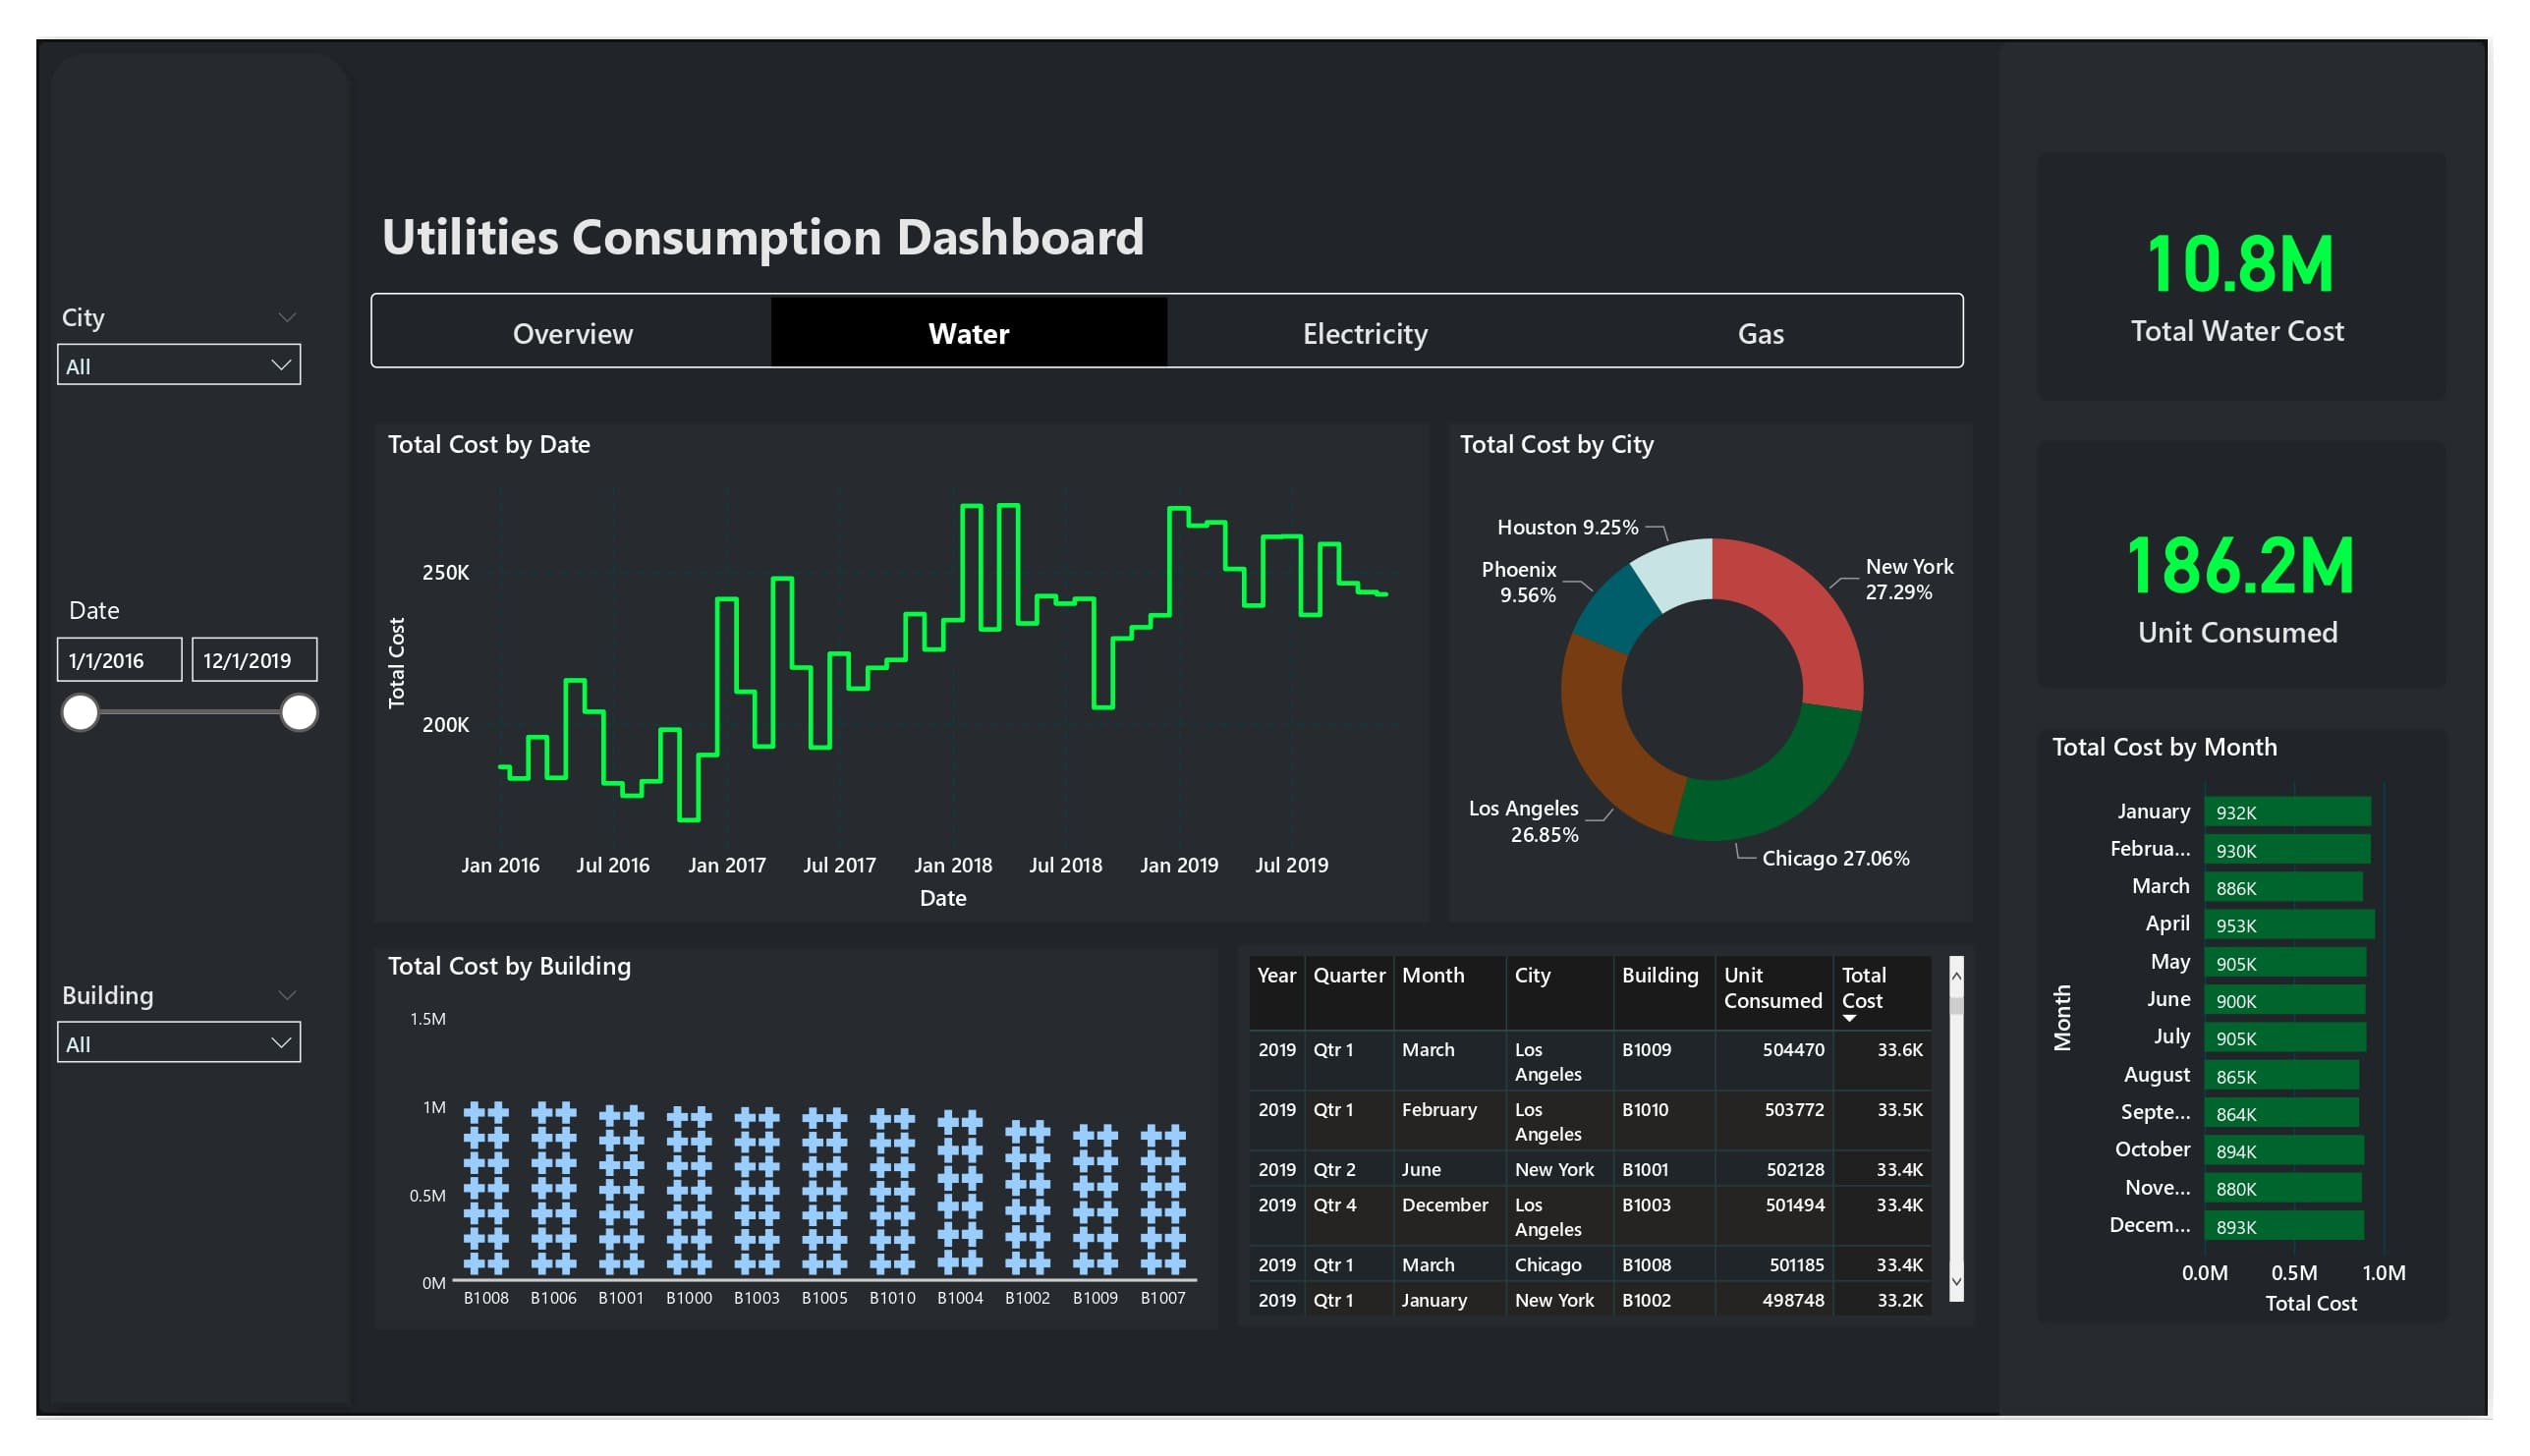

This screenshot's page, from the dashboard's own definition file:
{"tool":"powerbi","page":{"name":"Water","canvas":[1600,900],"ordinal":1},"visuals":[{"type":"textbox","box":[219.2,101.9,776.9,65.4],"z":0},{"type":"pageNavigator","box":[218.2,166.4,1038.2,49.1],"z":1000},{"type":"card","fields":{"Values":["Measures_Table.Total Cost"]},"box":[1306.6,81.7,255.4,145.9],"z":2000},{"type":"card","fields":{"Values":["Measures_Table.Unit Consumed"]},"box":[1306.7,282.2,255.6,135.6],"z":4000},{"type":"slicer","fields":{"Values":["Building Master.City"]},"box":[3.5,166.8,179,73],"z":5000},{"type":"slicer","fields":{"Values":["Energy Consumptions.Building"]},"box":[3.5,608.1,179,73],"z":6000},{"type":"slicer","fields":{"Values":["Energy Consumptions.Date"]},"box":[0,380.5,192.3,86.5],"z":7000},{"type":"textbox","box":[15.6,357.9,152.9,33],"z":8000},{"type":"lineChart","fields":{"Category":["Energy Consumptions.Date"],"Y":["Measures_Table.Total Cost"]},"box":[223.1,254.4,684.1,320.9],"z":9000},{"type":"donutChart","fields":{"Category":["Building Master.City"],"Y":["Measures_Table.Total Cost"]},"box":[922,253.8,338.5,321.4],"z":10000},{"type":"PBI_CV_73744D90_4DC9_4F18_8BA5_EE8FA5C98035","fields":{"Values":["Measures_Table.Total Cost"],"Category":["Energy Consumptions.Building"]},"box":[223.1,592.9,545.1,244.5],"z":11000},{"type":"tableEx","fields":{"Values":["Energy Consumptions.Date.Variation.Date Hierarchy.Year","Energy Consumptions.Date.Variation.Date Hierarchy.Quarter","Energy Consumptions.Date.Variation.Date Hierarchy.Month","Building Master.City","Building Master.Building","Measures_Table.Unit Consumed","Measures_Table.Total Cost"]},"box":[784.1,592.9,476.4,244],"z":12000},{"type":"clusteredBarChart","fields":{"Y":["Measures_Table.Total Cost"],"Category":["Energy Consumptions.Date.Variation.Date Hierarchy.Month"]},"box":[1307.2,450.6,263.9,386.7],"z":13000}]}

Visuals, with their boxes on the page's 1600x900 design canvas (x1, y1, x2, y2). These are canvas units, not pixel positions in the 2530x1456 screenshot, which may show the page scaled, cropped or inside an application window:
textbox: [x1=219, y1=102, x2=996, y2=167]
pageNavigator: [x1=218, y1=166, x2=1256, y2=216]
card - Measures_Table.Total Cost: [x1=1307, y1=82, x2=1562, y2=228]
card - Measures_Table.Unit Consumed: [x1=1307, y1=282, x2=1562, y2=418]
slicer - Building Master.City: [x1=4, y1=167, x2=182, y2=240]
slicer - Energy Consumptions.Building: [x1=4, y1=608, x2=182, y2=681]
slicer - Energy Consumptions.Date: [x1=0, y1=380, x2=192, y2=467]
textbox: [x1=16, y1=358, x2=168, y2=391]
lineChart - Energy Consumptions.Date x Measures_Table.Total Cost: [x1=223, y1=254, x2=907, y2=575]
donutChart - Building Master.City x Measures_Table.Total Cost: [x1=922, y1=254, x2=1260, y2=575]
PBI_CV_73744D90_4DC9_4F18_8BA5_EE8FA5C98035 - Measures_Table.Total Cost x Energy Consumptions.Building: [x1=223, y1=593, x2=768, y2=837]
tableEx - Energy Consumptions.Date.Variation.Date Hierarchy.Year x Energy Consumptions.Date.Variation.Date Hierarchy.Quarter: [x1=784, y1=593, x2=1260, y2=837]
clusteredBarChart - Measures_Table.Total Cost x Energy Consumptions.Date.Variation.Date Hierarchy.Month: [x1=1307, y1=451, x2=1571, y2=837]
